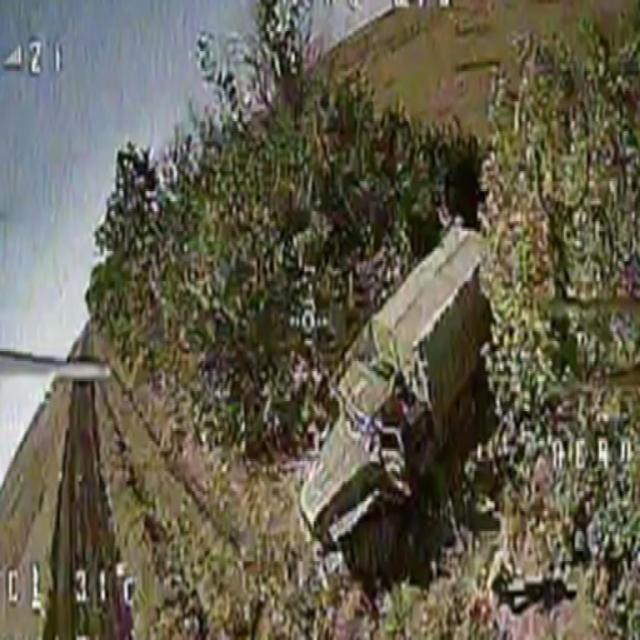TRUCK: (294, 213, 506, 571)
